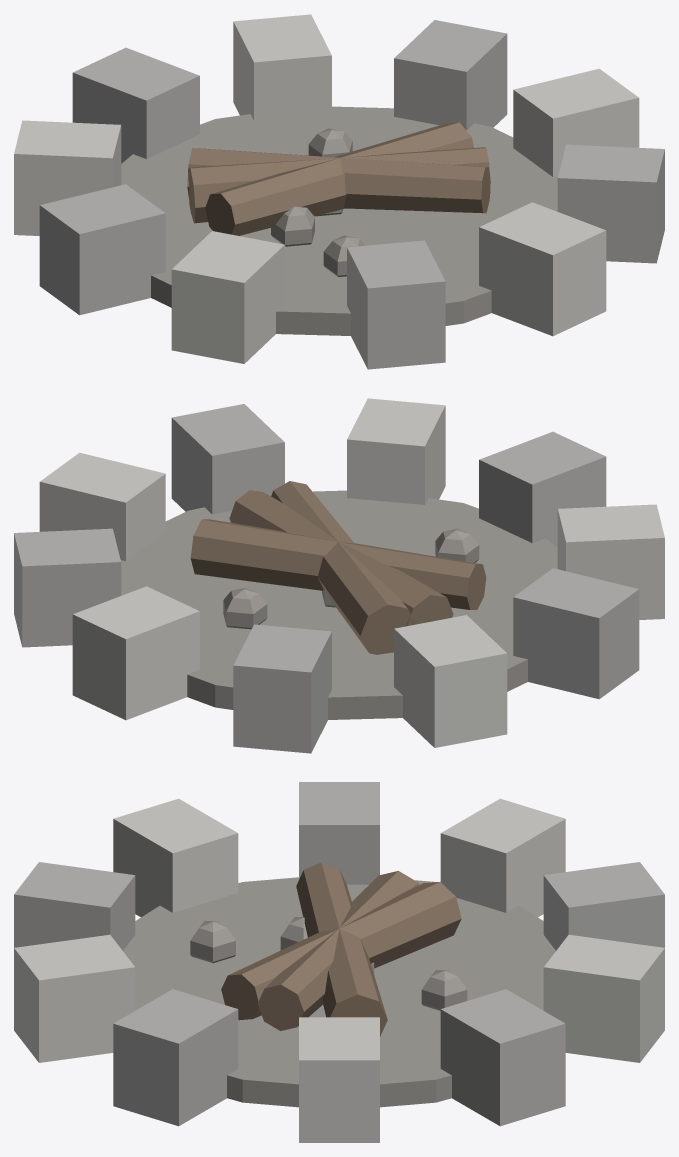
File: ws_ruin_siege_campfire.glb
The picture shows the model from 3 angles, top to bottom: view 1: azimuth 30°, elevation 25°; view 2: azimuth 150°, elevation 25°; view 3: azimuth 270°, elevation 25°; orthographic projection.
Visible parts, largest first — view 1: ws_ruin_siege_campfire; view 2: ws_ruin_siege_campfire; view 3: ws_ruin_siege_campfire.
Boxes of the visible parts, x1,y1,x2,y2 form: ws_ruin_siege_campfire: (14, 14, 664, 369); ws_ruin_siege_campfire: (14, 398, 664, 753); ws_ruin_siege_campfire: (14, 782, 664, 1142).
Size of the model in its own units: 1.3 by 0.18 by 1.29.
